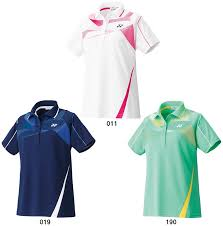S_polo shirt: (122, 101, 221, 220), (4, 102, 99, 223), (70, 4, 154, 120)
